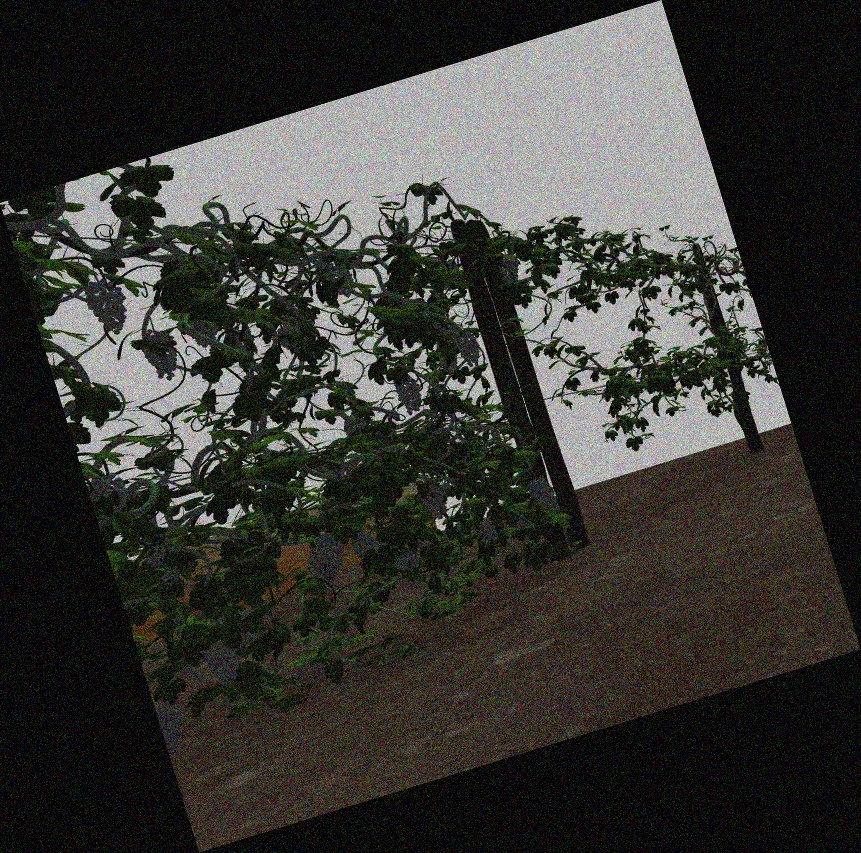grape: (87, 278, 128, 333), (203, 636, 240, 687), (143, 330, 179, 381), (161, 700, 186, 750), (396, 373, 421, 415), (319, 533, 345, 573), (397, 552, 423, 590), (456, 330, 481, 366), (422, 482, 446, 519), (351, 528, 375, 560), (475, 516, 498, 543), (530, 478, 550, 506), (500, 257, 521, 282), (543, 497, 560, 517)
